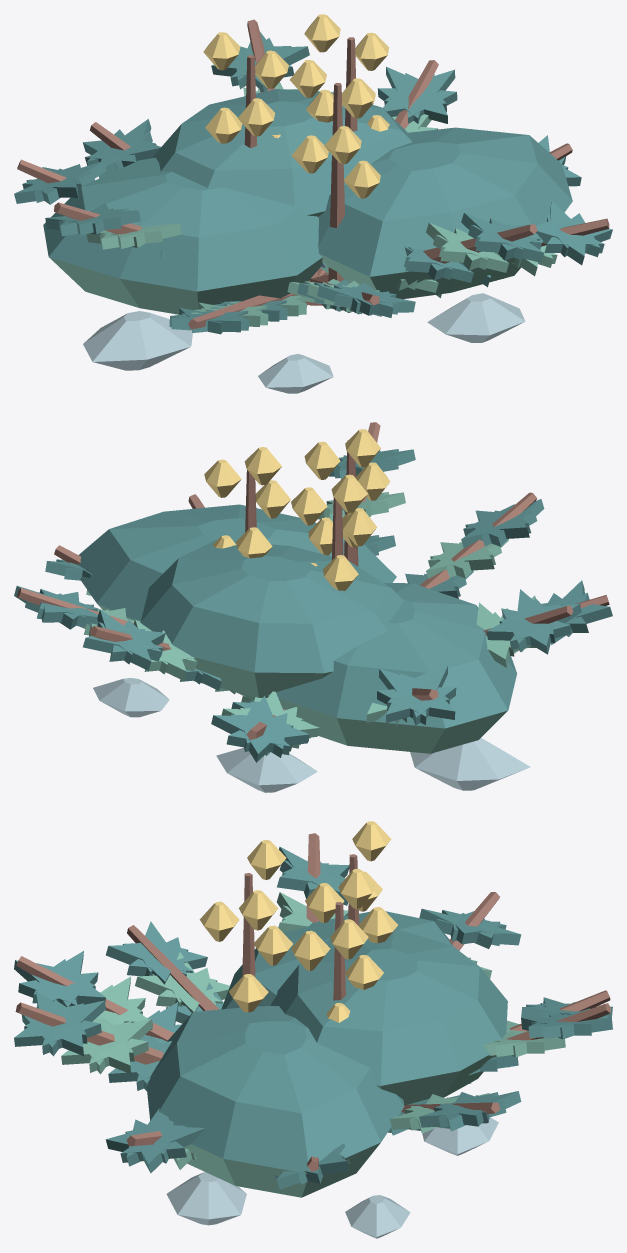
The model's file is lagoon_shrub_oregon_grape.glb.
3 views of the same model, one above another, from view 1: azimuth 30°, elevation 25°; view 2: azimuth 150°, elevation 25°; view 3: azimuth 270°, elevation 25° (orthographic). The views are drawn at different scales.
Parts seen in each view (by area): view 1: lagoon_shrub_oregon_grape.001; view 2: lagoon_shrub_oregon_grape.001; view 3: lagoon_shrub_oregon_grape.001.
Boxes of the visible parts, bbox=[...] form: lagoon_shrub_oregon_grape.001: bbox=[14, 14, 612, 393]; lagoon_shrub_oregon_grape.001: bbox=[14, 422, 612, 792]; lagoon_shrub_oregon_grape.001: bbox=[14, 821, 612, 1238].
Bounding box in the file's own units: 2.66 × 1.46 × 2.55.
